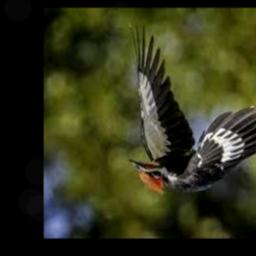Woodpecker: (128, 23, 256, 196)
